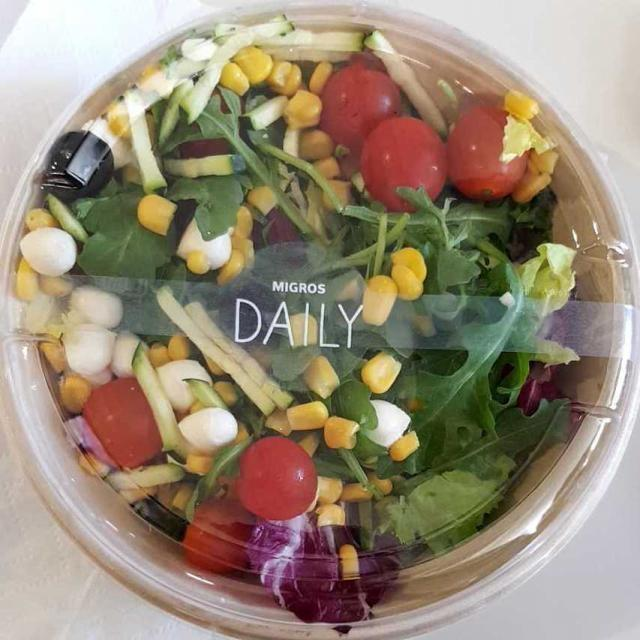cheese: (14, 221, 412, 453)
salad: (81, 88, 580, 610)
tomato: (78, 59, 514, 582)
zucchini: (87, 26, 446, 502)
